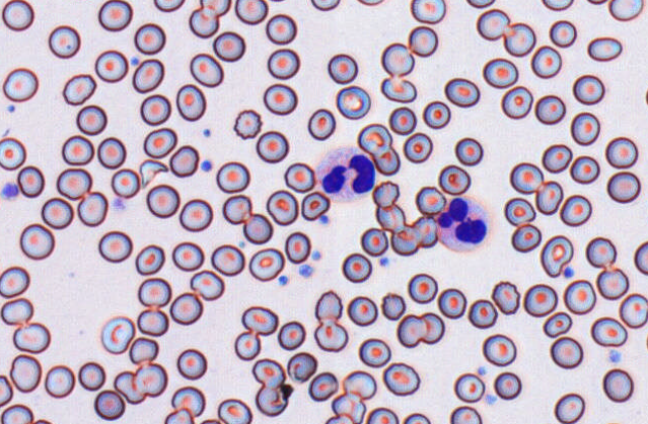GRAN: (429, 192, 494, 254), (313, 145, 378, 206)
PLT: (0, 181, 20, 202), (606, 347, 626, 365), (298, 262, 316, 278), (200, 157, 215, 172), (483, 394, 499, 407), (562, 265, 575, 279), (276, 275, 289, 288), (318, 214, 330, 227), (378, 256, 391, 268), (476, 364, 488, 376), (310, 248, 321, 261), (5, 103, 16, 114), (202, 127, 212, 139), (130, 56, 140, 66)
RBC: (100, 315, 135, 354), (19, 223, 55, 260), (382, 361, 420, 396), (9, 353, 42, 392), (2, 67, 38, 102), (248, 247, 285, 281), (254, 384, 292, 417), (132, 362, 167, 397), (502, 21, 536, 57), (335, 85, 371, 119), (12, 321, 50, 353), (380, 42, 414, 77), (523, 283, 558, 317), (178, 198, 213, 232), (189, 52, 223, 87), (146, 183, 180, 218), (265, 189, 298, 225), (56, 167, 92, 200), (175, 83, 206, 121), (169, 291, 203, 325), (595, 266, 629, 300), (215, 160, 250, 193), (563, 279, 596, 314), (606, 170, 641, 203), (590, 316, 627, 347), (113, 370, 146, 404), (509, 161, 543, 194), (549, 336, 583, 369), (482, 333, 516, 366), (500, 85, 533, 119), (255, 130, 289, 163), (94, 49, 128, 82), (357, 123, 392, 155), (313, 320, 348, 352), (170, 385, 205, 417), (189, 269, 224, 301), (475, 8, 510, 40), (210, 244, 245, 276), (76, 191, 108, 226), (132, 58, 164, 93), (602, 367, 634, 402), (262, 83, 297, 115), (482, 57, 518, 88), (97, 0, 133, 31), (241, 305, 278, 335), (98, 230, 132, 262), (62, 73, 96, 105), (48, 24, 80, 58), (444, 77, 480, 107), (283, 161, 316, 193), (40, 197, 73, 229), (530, 45, 562, 78), (212, 30, 245, 62), (559, 194, 592, 226), (133, 22, 166, 54), (605, 136, 638, 168), (342, 369, 376, 400), (437, 164, 471, 195), (44, 364, 75, 398), (143, 127, 177, 158), (331, 393, 366, 423), (251, 358, 286, 388), (618, 292, 647, 328), (585, 236, 617, 268), (139, 93, 171, 125), (265, 13, 297, 45), (61, 134, 94, 165), (267, 48, 300, 79), (1, 0, 34, 31), (572, 74, 605, 105), (396, 313, 426, 347), (137, 277, 171, 307), (570, 111, 600, 145), (534, 180, 563, 215), (491, 280, 520, 315), (380, 76, 417, 103), (390, 225, 422, 256), (242, 212, 273, 244), (414, 185, 446, 216), (286, 351, 317, 383), (453, 372, 485, 403), (93, 389, 125, 420), (188, 6, 219, 38), (346, 295, 378, 326), (402, 131, 433, 163), (407, 25, 438, 57), (176, 348, 207, 380), (553, 392, 585, 423), (358, 337, 391, 367), (169, 144, 199, 177), (171, 241, 204, 271), (0, 265, 30, 298), (96, 136, 126, 169), (407, 272, 438, 303), (341, 252, 372, 283), (327, 53, 358, 84), (76, 104, 107, 135), (437, 287, 467, 319), (534, 94, 566, 124), (136, 307, 169, 336), (503, 197, 536, 226), (300, 190, 330, 221), (467, 298, 498, 328), (110, 167, 140, 198), (135, 244, 165, 275), (541, 143, 572, 173), (314, 289, 343, 321), (307, 108, 336, 140), (0, 297, 33, 325), (16, 165, 44, 198), (308, 371, 338, 401), (222, 194, 252, 224), (375, 203, 406, 232), (510, 223, 541, 252), (233, 108, 262, 139), (569, 155, 600, 184), (411, 215, 438, 248), (284, 231, 311, 264), (0, 136, 26, 170), (217, 398, 252, 423), (587, 36, 622, 61), (277, 320, 306, 350), (454, 136, 483, 166), (410, 0, 446, 24), (234, 0, 268, 25), (371, 146, 400, 175), (388, 106, 417, 135), (422, 100, 451, 129), (128, 336, 158, 364), (419, 312, 445, 344), (371, 179, 399, 208), (360, 227, 388, 256), (493, 371, 521, 400), (548, 19, 577, 47), (234, 330, 261, 360), (542, 311, 572, 338), (78, 361, 105, 391), (608, 0, 643, 21), (380, 292, 406, 320), (0, 403, 33, 423), (449, 405, 482, 423), (365, 407, 399, 423), (199, 0, 231, 16), (633, 240, 647, 275), (164, 407, 194, 423), (0, 374, 13, 407), (153, 0, 185, 12), (541, 0, 574, 11), (401, 412, 431, 423), (310, 0, 340, 11), (324, 413, 355, 423), (466, 0, 495, 8), (356, 0, 384, 6), (199, 418, 222, 423), (31, 418, 53, 423), (586, 0, 607, 5), (644, 85, 648, 106)
Schistocyte: (540, 233, 574, 277), (138, 159, 169, 186)
